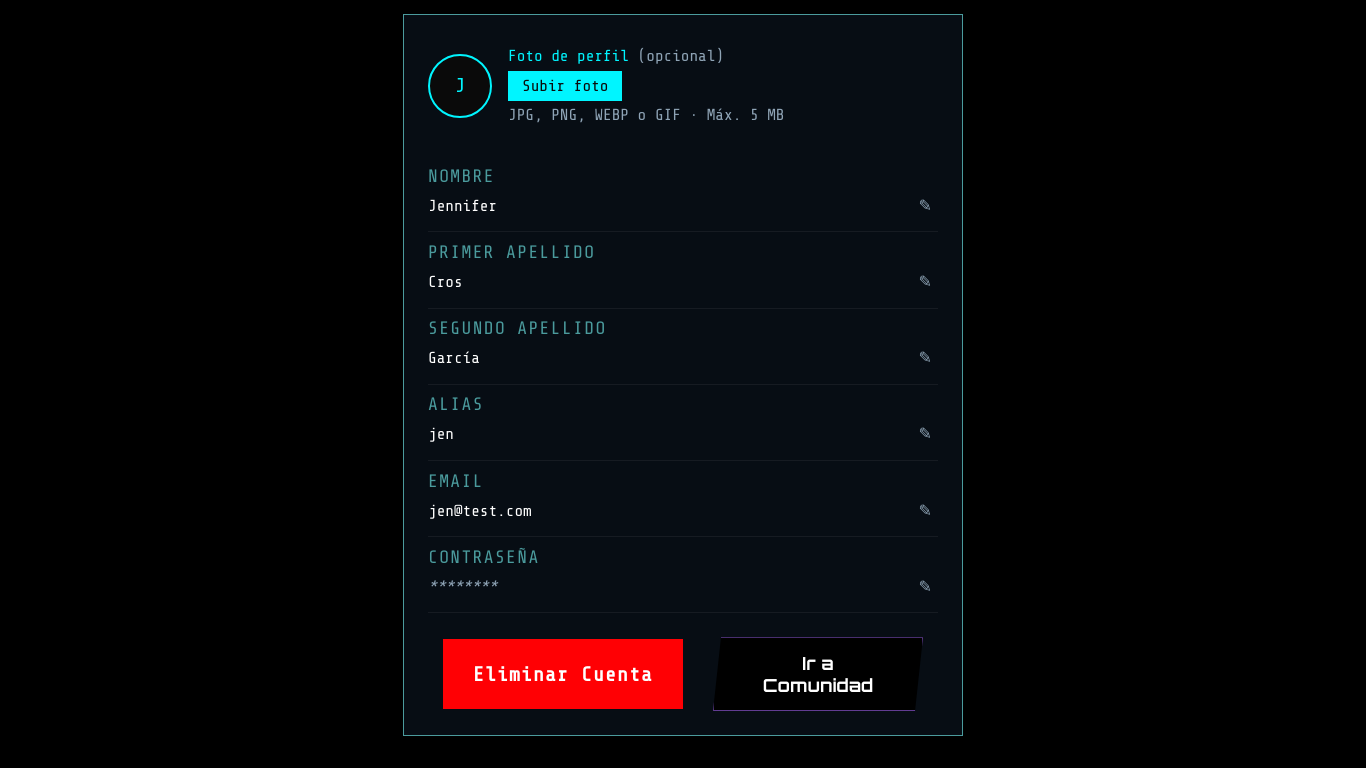
Test: UserProfile — cobertura 100% › cierra el modal al hacer click en 'Cancelar'
(page scrolled)
Click the button "Eliminar Cuenta".
click(563, 674)  # box [443, 639, 683, 709]
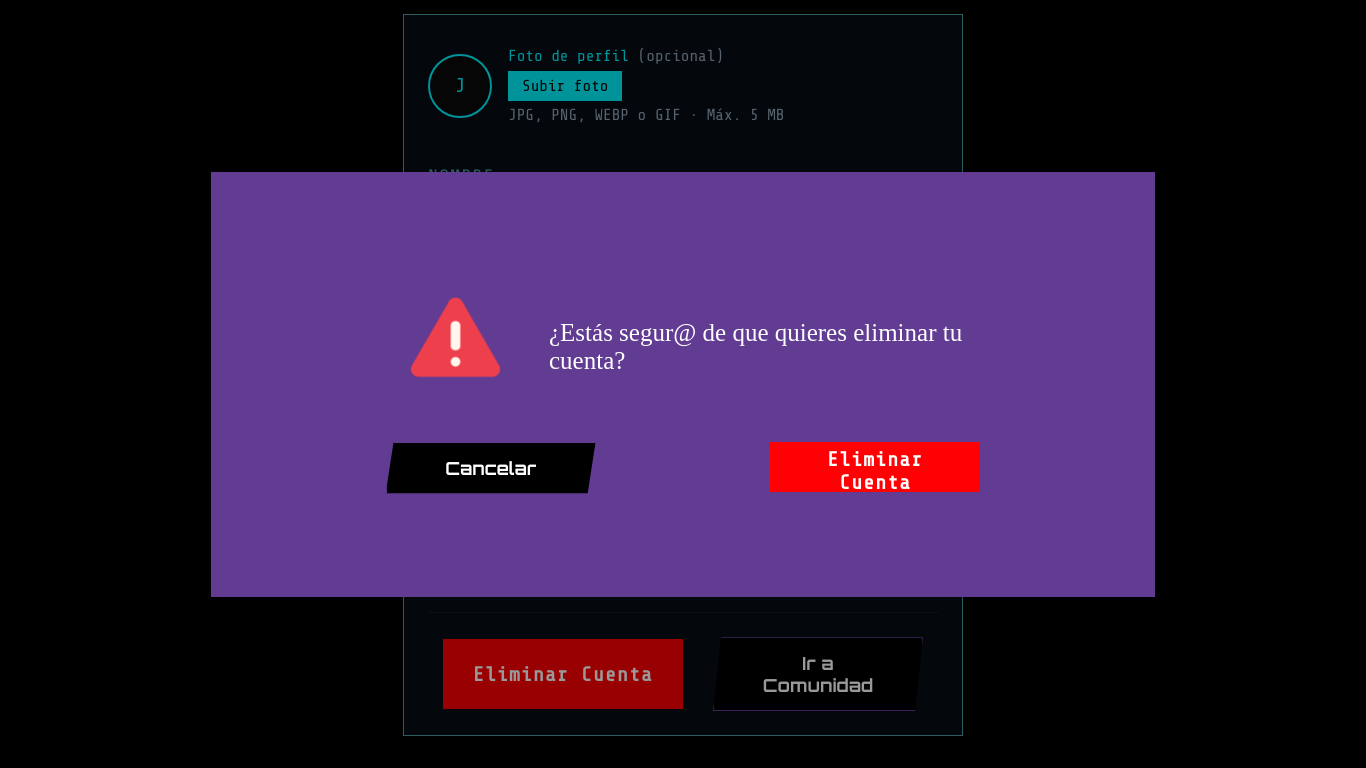
Click the button "Cancelar".
click(491, 468)  # box [386, 442, 596, 494]
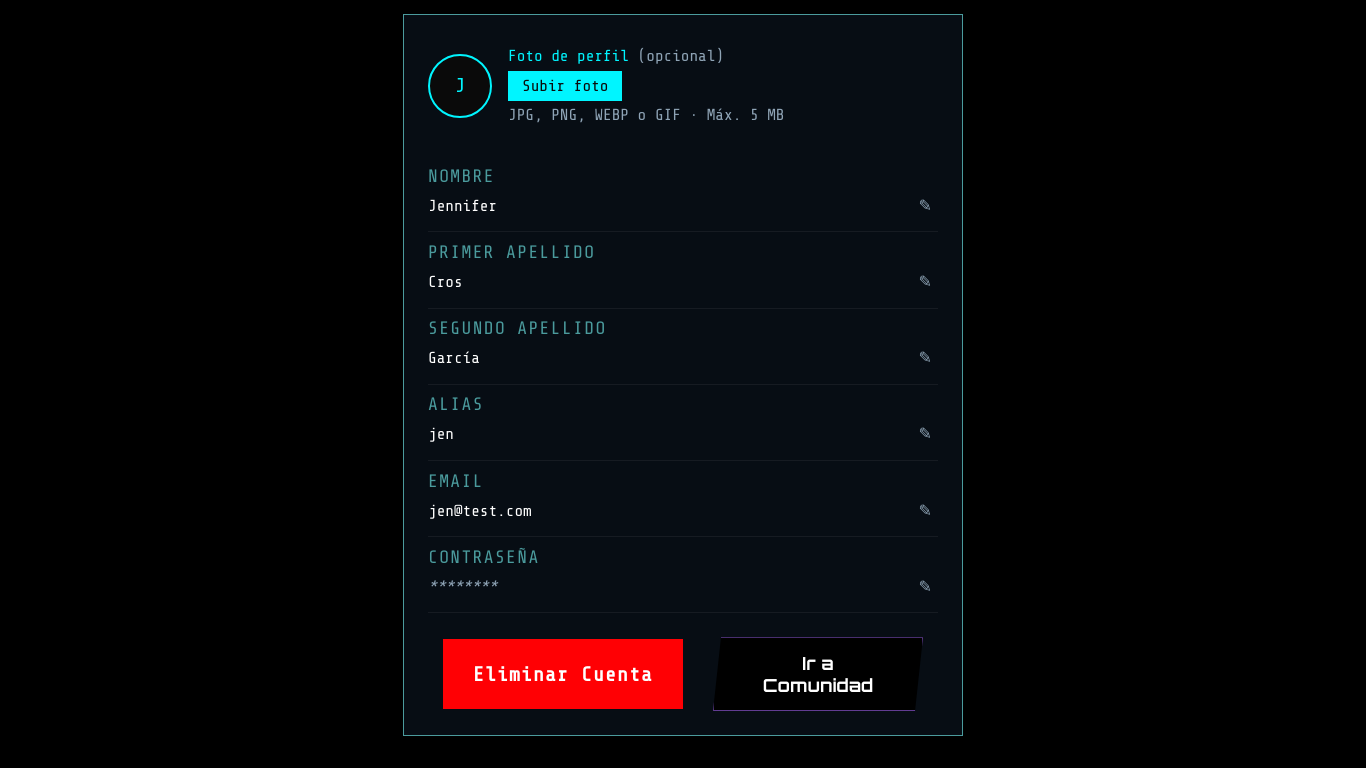
Expected: the text "¿Estás segur@ de que quieres eliminar tu cuenta?" is gone
